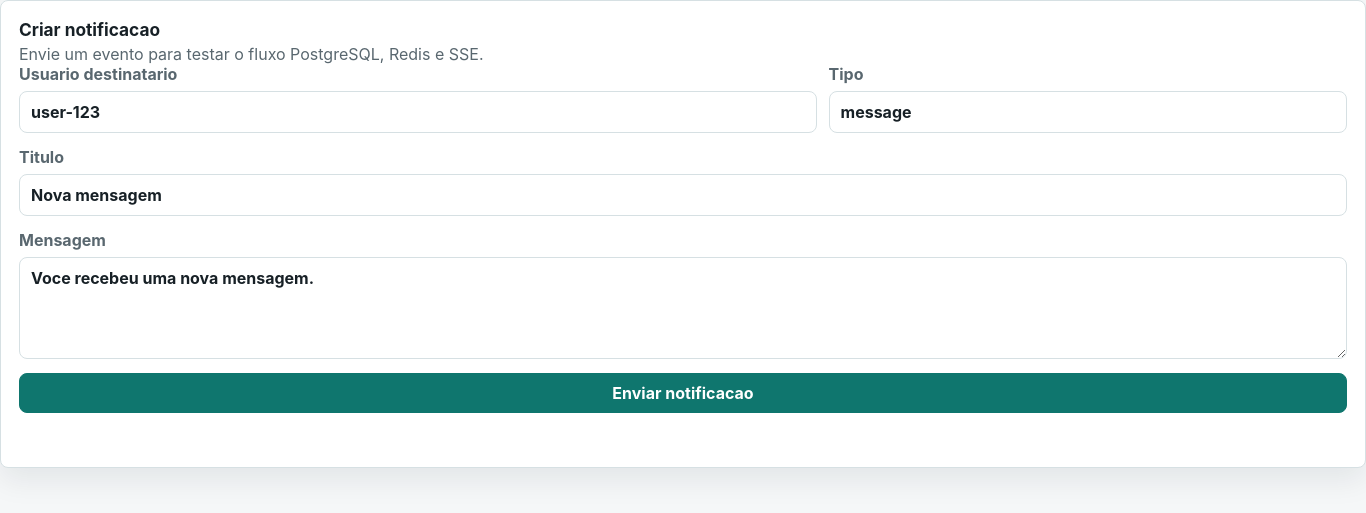
Test: CreateNotificationForm › submits and updates the list when disconnected
The width and height of the screenshot is (1366, 513).
Click the button "Enviar notificacao" at (683, 393), box [19,373,1347,413]
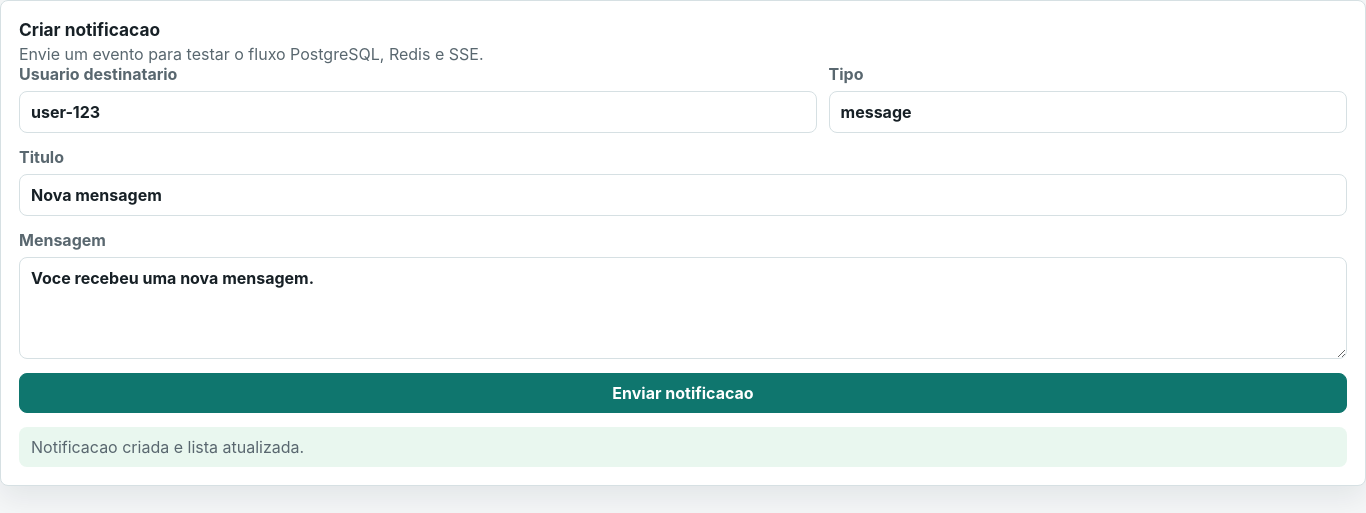
Expected: the text "Notificacao criada e lista atualizada." is shown, [19,427,1347,467]
